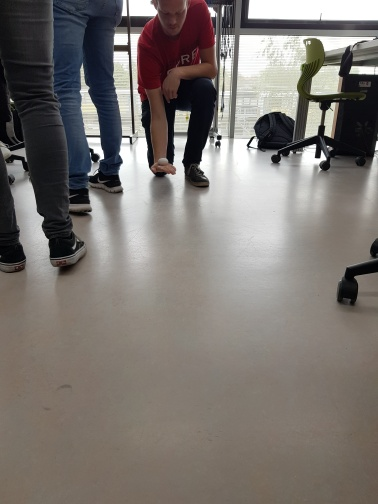egg: (156, 152, 171, 168)
